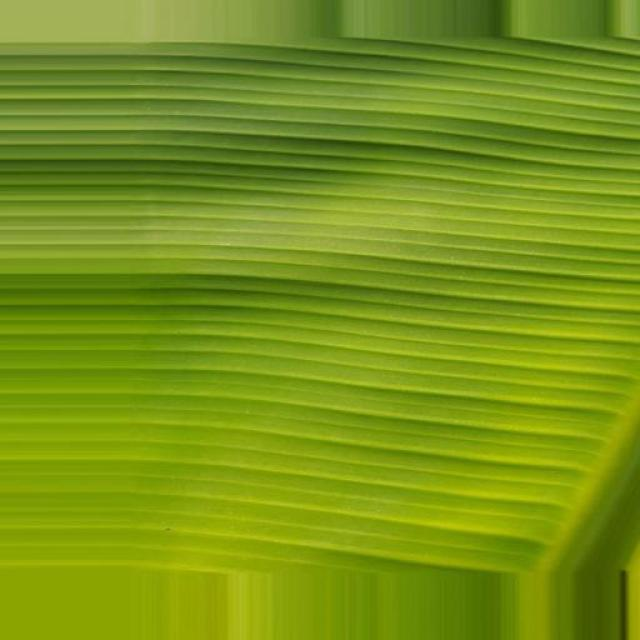Black_leaf_spot: (0, 19, 640, 587)
